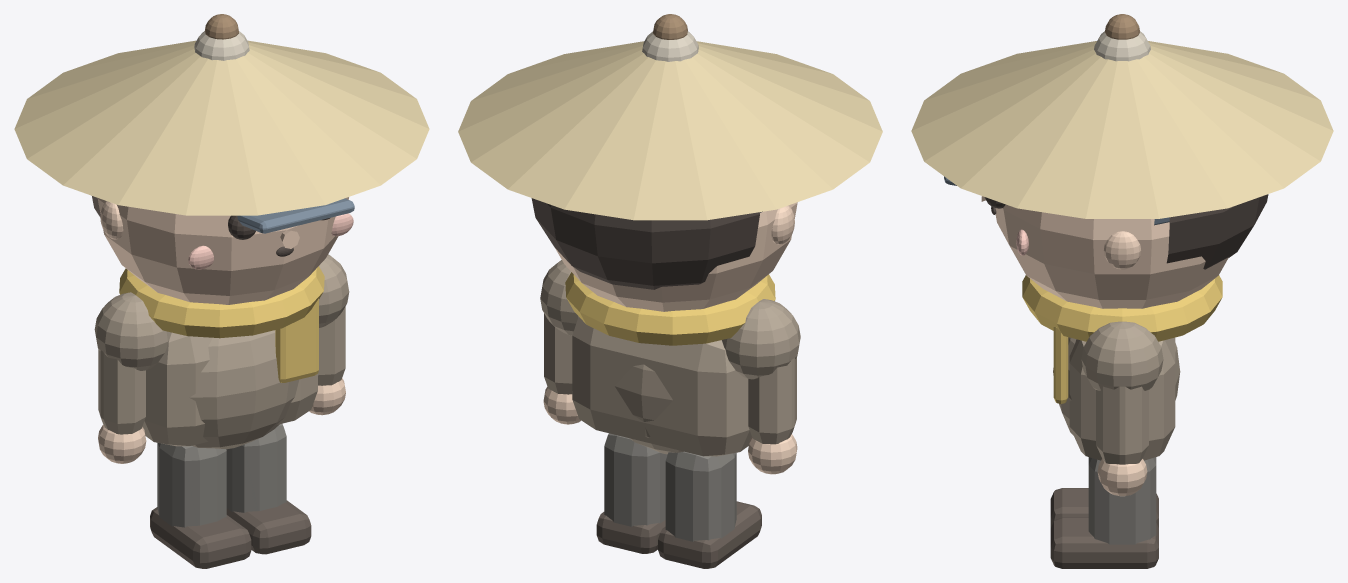
Rendered from character-baseline-20261109.glb.
The picture shows the model from 3 angles, left to right: view 1: azimuth 30°, elevation 25°; view 2: azimuth 150°, elevation 25°; view 3: azimuth 270°, elevation 25°; orthographic projection. The views are drawn at different scales.
Visible parts, largest first — view 1: HatNonLa, Torso, Head, Scarf, LegL, LegR, ArmL, ArmR, HatCap, HatBeanie; view 2: HatNonLa, Torso, Head, LegL, Scarf, LegR, ArmL, ArmR, HatBeanie; view 3: HatNonLa, Head, Torso, LegR, Scarf, ArmR, LegL, HatBeanie.
Boxes of the visible parts, x1,y1,x2,y2 form: HatNonLa: (14,14,429,215); Torso: (94,254,349,449); Head: (92,196,353,304); Scarf: (119,266,324,382); LegL: (150,442,251,568); LegR: (226,424,311,554); ArmL: (98,349,146,463); ArmR: (309,306,345,415); HatCap: (237,198,354,233); HatBeanie: (194,31,249,60); HatNonLa: (458,14,882,220); Torso: (540,260,800,456); Head: (531,198,797,311); LegL: (658,451,761,568); Scarf: (565,272,775,345); LegR: (596,433,667,553); ArmL: (748,357,797,474); ArmR: (543,313,580,424); HatBeanie: (642,31,698,61); HatNonLa: (911,14,1333,218); Head: (981,194,1268,308); Torso: (1053,321,1180,460); LegR: (1050,457,1158,568); Scarf: (1022,275,1222,404); ArmR: (1096,386,1148,496); LegL: (1050,488,1158,527); HatBeanie: (1094,31,1150,61).
Bounding box in the file's own units: 1.42 × 1.99 × 1.44.
